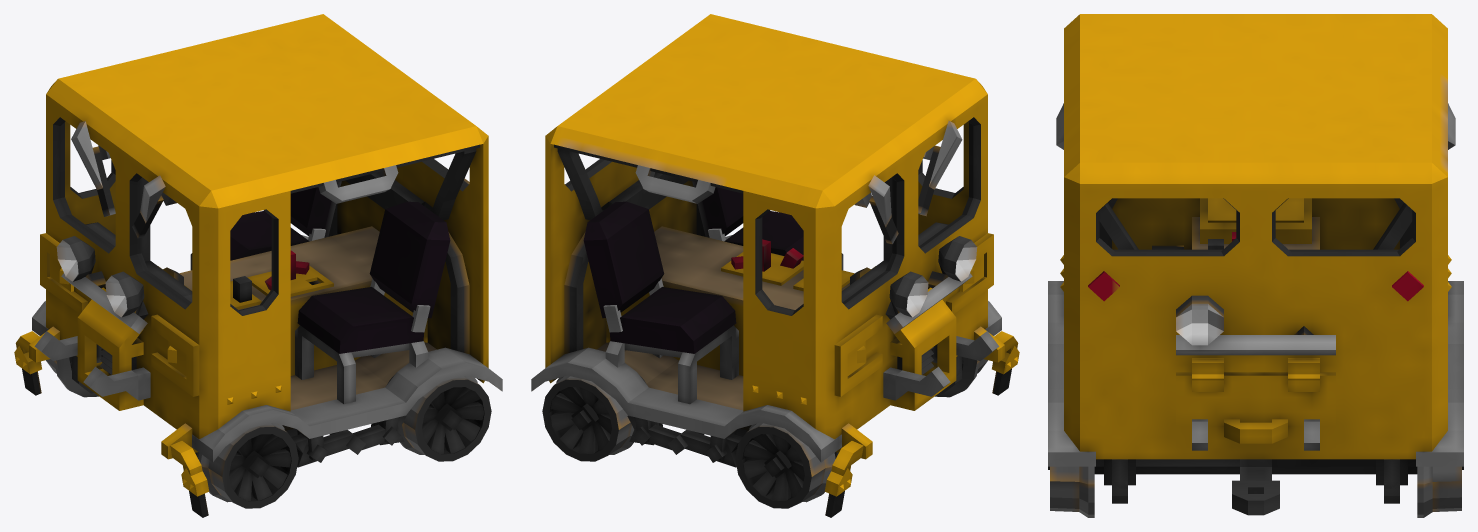
Rendered from mow_tspeeder.obj.
3 views of the same model, side by side, from view 1: azimuth 30°, elevation 25°; view 2: azimuth 150°, elevation 25°; view 3: azimuth 270°, elevation 25° (orthographic). The views are drawn at different scales.
Parts seen in each view (by area): view 1: SHELL.002_Cube.1051, Cube.311_Cube.1089, FRAME.002_Cube.028, FRAME_WHEEL_1_Circle.023, FRAME.003_Cube.1058, Cube.023_Cube.029, FRAME_WHEEL_2_Circle.002, Cube.007_Cube.005, Cube.052_Cube.1066, Cube.047_Cube.1062, Cube.058_Cube.1086, Cube.041_Cube.1059 (+7 smaller); view 2: SHELL.002_Cube.1051, Cube.311_Cube.1089, FRAME.002_Cube.028, Cube.023_Cube.029, FRAME_WHEEL_1_Circle.023, FRAME.003_Cube.1058, FRAME_WHEEL_2_Circle.002, Cube.007_Cube.005, Cube.052_Cube.1066, Cube.047_Cube.1062, Cube.058_Cube.1086, Extras.Wipers_Cube.1084 (+7 smaller); view 3: SHELL.002_Cube.1051, Cube.313_Cube.1092, FRAME_WHEEL_2_Circle.002, FRAME.002_Cube.028, Cube.041_Cube.1059, Cube.312_Cube.1090, Cube.007_Cube.005, FRAME.001_Cube.1094, Cube.026_Cube.042, FRAME.003_Cube.1058, Cube_Cube.032, FULLBRIGHT_LCG_HDLT_Cube.1063 (+3 smaller).
Part boxes in pixels (left/top/right/bottom): SHELL.002_Cube.1051: left=46, top=14, right=488, bottom=439; Cube.311_Cube.1089: left=190, top=181, right=450, bottom=404; FRAME.002_Cube.028: left=32, top=235, right=502, bottom=462; FRAME_WHEEL_1_Circle.023: left=46, top=357, right=298, bottom=508; FRAME.003_Cube.1058: left=85, top=144, right=479, bottom=354; Cube.023_Cube.029: left=179, top=226, right=427, bottom=375; FRAME_WHEEL_2_Circle.002: left=399, top=375, right=491, bottom=461; Cube.007_Cube.005: left=53, top=117, right=468, bottom=315; Cube.052_Cube.1066: left=40, top=233, right=199, bottom=396; Cube.047_Cube.1062: left=77, top=287, right=143, bottom=410; Cube.058_Cube.1086: left=14, top=326, right=209, bottom=517; Cube.041_Cube.1059: left=61, top=178, right=469, bottom=333; SHELL.002_Cube.1051: left=545, top=14, right=987, bottom=439; Cube.311_Cube.1089: left=583, top=181, right=843, bottom=404; FRAME.002_Cube.028: left=531, top=235, right=1001, bottom=462; Cube.023_Cube.029: left=606, top=226, right=854, bottom=375; FRAME_WHEEL_1_Circle.023: left=735, top=357, right=987, bottom=508; FRAME.003_Cube.1058: left=554, top=144, right=948, bottom=354; FRAME_WHEEL_2_Circle.002: left=542, top=375, right=634, bottom=461; Cube.007_Cube.005: left=565, top=117, right=980, bottom=315; Cube.052_Cube.1066: left=834, top=233, right=993, bottom=396; Cube.047_Cube.1062: left=890, top=287, right=956, bottom=410; Cube.058_Cube.1086: left=824, top=326, right=1019, bottom=517; Extras.Wipers_Cube.1084: left=854, top=120, right=962, bottom=244; SHELL.002_Cube.1051: left=1064, top=14, right=1447, bottom=459; Cube.313_Cube.1092: left=1176, top=358, right=1335, bottom=448; FRAME_WHEEL_2_Circle.002: left=1048, top=459, right=1463, bottom=517; FRAME.002_Cube.028: left=1048, top=281, right=1463, bottom=466; Cube.041_Cube.1059: left=1176, top=295, right=1335, bottom=355; Cube.312_Cube.1090: left=1200, top=198, right=1311, bottom=243; Cube.007_Cube.005: left=1096, top=198, right=1415, bottom=256; FRAME.001_Cube.1094: left=1104, top=459, right=1407, bottom=503; Cube.026_Cube.042: left=1232, top=459, right=1279, bottom=515; FRAME.003_Cube.1058: left=1099, top=198, right=1412, bottom=249; Cube_Cube.032: left=1176, top=303, right=1223, bottom=345; FULLBRIGHT_LCG_HDLT_Cube.1063: left=1088, top=271, right=1423, bottom=301.
Bounding box in the file's own units: 2.06 × 1.6 × 1.62.
Materials: 1 (1 with a texture image).
